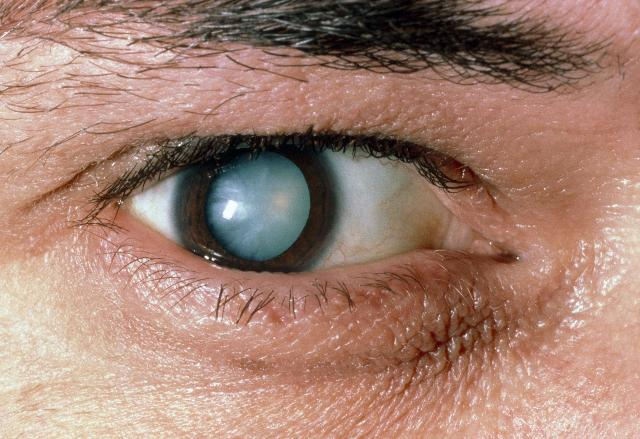eye: (173, 144, 337, 272)
